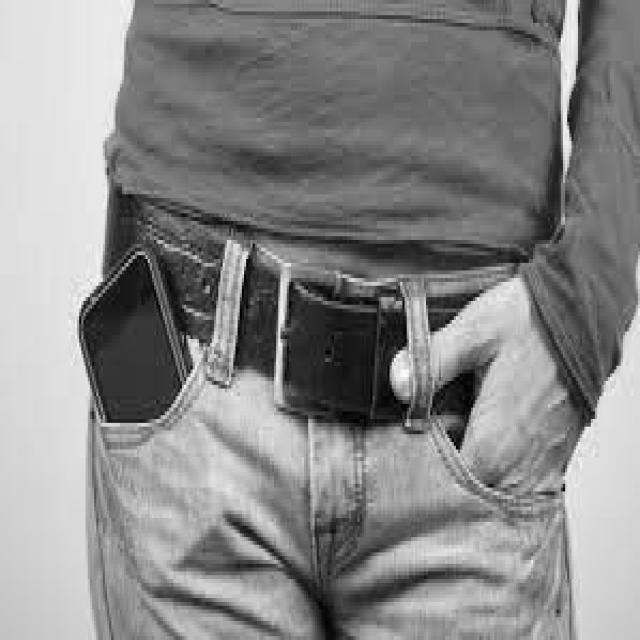No gun_phone: (79, 248, 192, 425)
